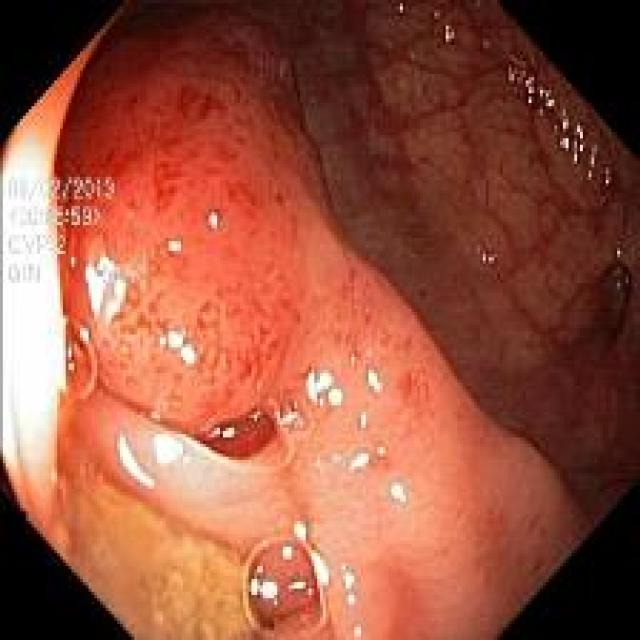Polyps: (52, 8, 376, 453)
